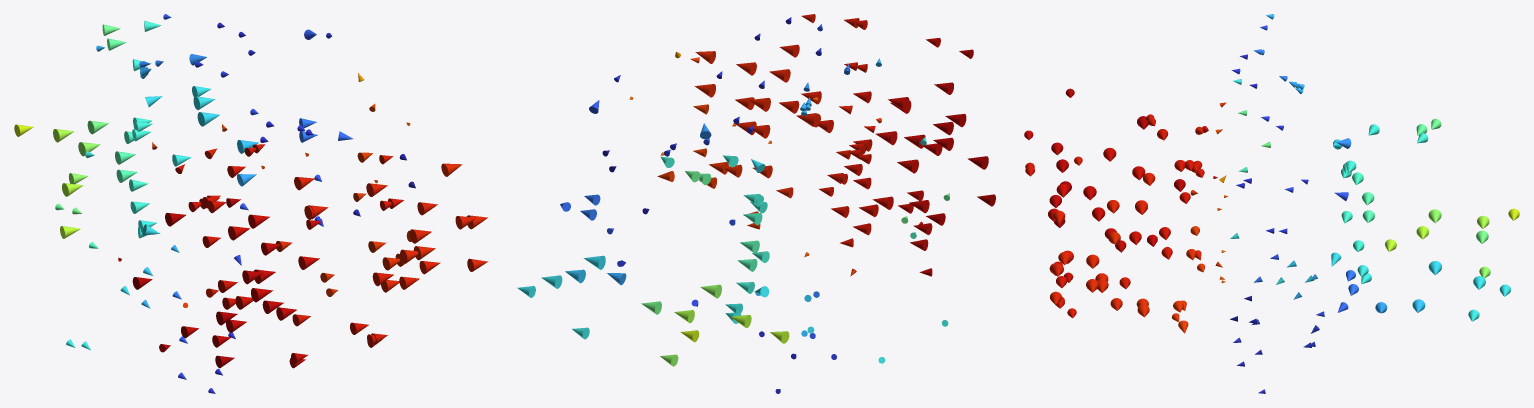
File: LineasCorrienteH2-O2_mh2-1.38_V-0.9.glb
3 views of the same model, side by side, from view 1: azimuth 30°, elevation 25°; view 2: azimuth 150°, elevation 25°; view 3: azimuth 270°, elevation 25° (orthographic). The views are drawn at different scales.
Size of the model in its own units: 0.000914 by 0.000958 by 0.00123.
Materials: 2 (2 with a texture image).
